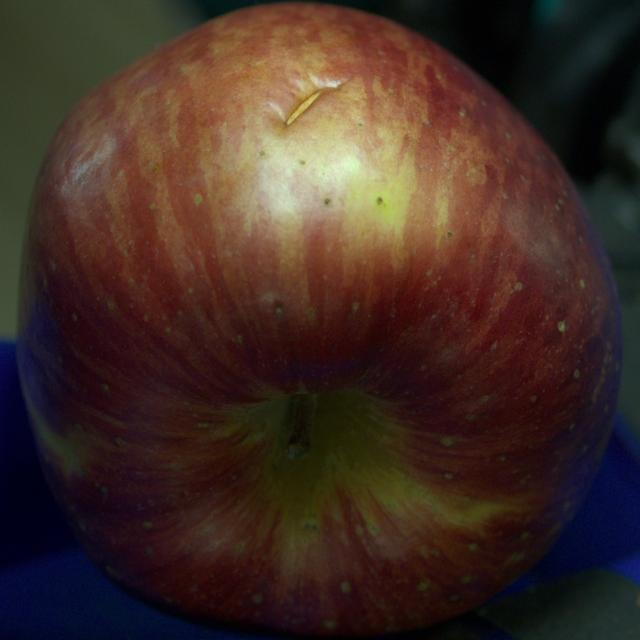apple: (16, 4, 621, 638)
scratch: (286, 80, 343, 125)
